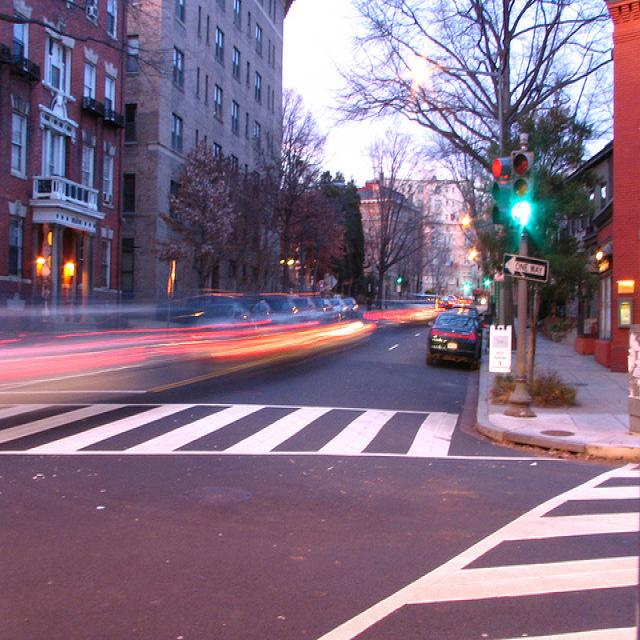Vehicle: (426, 304, 484, 371), (251, 299, 298, 313), (323, 299, 349, 321), (292, 296, 320, 314), (227, 307, 250, 322), (342, 297, 359, 313)
